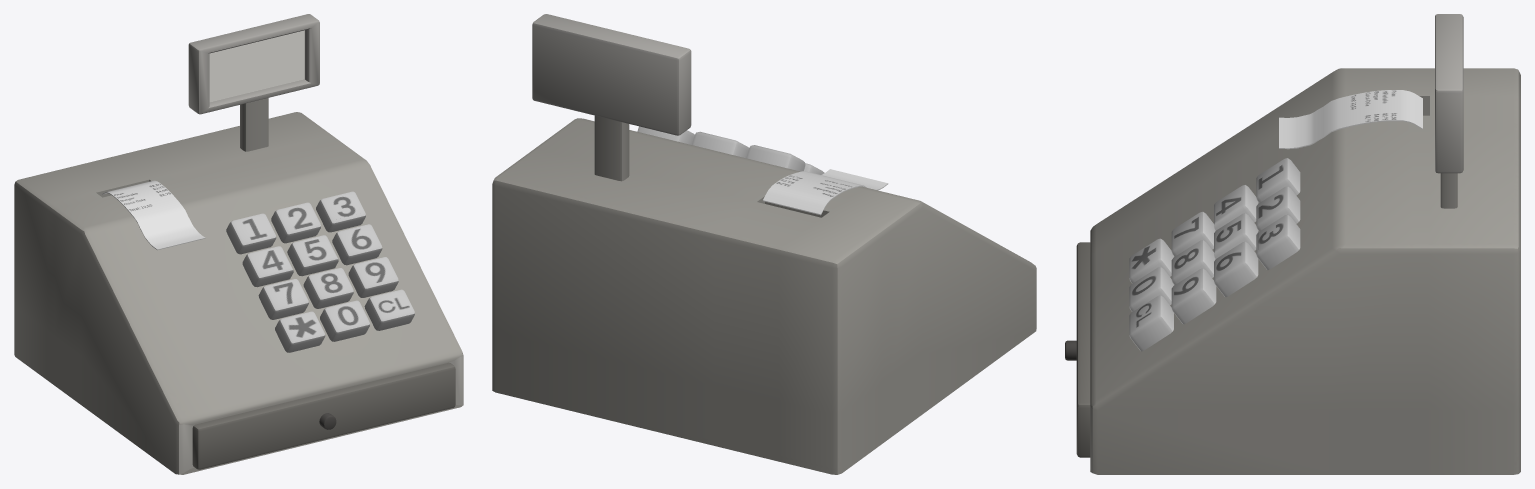
The model's file is PF_Register.fbx.
3 views of the same model, side by side, from view 1: azimuth 30°, elevation 25°; view 2: azimuth 150°, elevation 25°; view 3: azimuth 270°, elevation 25° (orthographic). The views are drawn at different scales.
Visible parts, largest first — view 1: Cashier, Bon; view 2: Cashier, Bon; view 3: Cashier, Bon.
Part boxes in pixels (box(x1,y1,x2,y2)): Cashier: box(14, 14, 463, 474); Bon: box(102, 180, 205, 250); Cashier: box(492, 14, 1036, 474); Bon: box(763, 169, 888, 215); Cashier: box(1065, 14, 1520, 474); Bon: box(1279, 90, 1422, 149).
Bounding box in the file's own units: 120 × 116 × 127.
